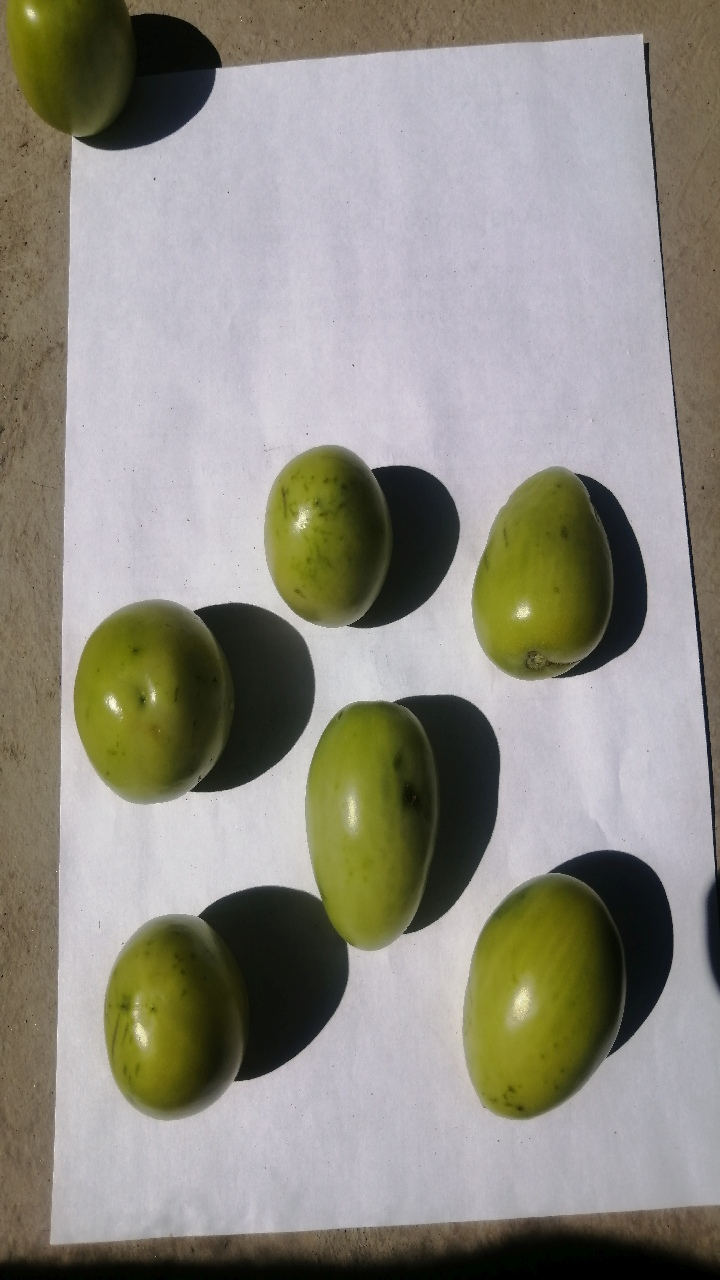tomateVerde: (446, 848, 668, 1142), (455, 442, 638, 712), (272, 675, 438, 969), (80, 894, 266, 1146), (49, 583, 241, 822), (252, 426, 408, 652)
